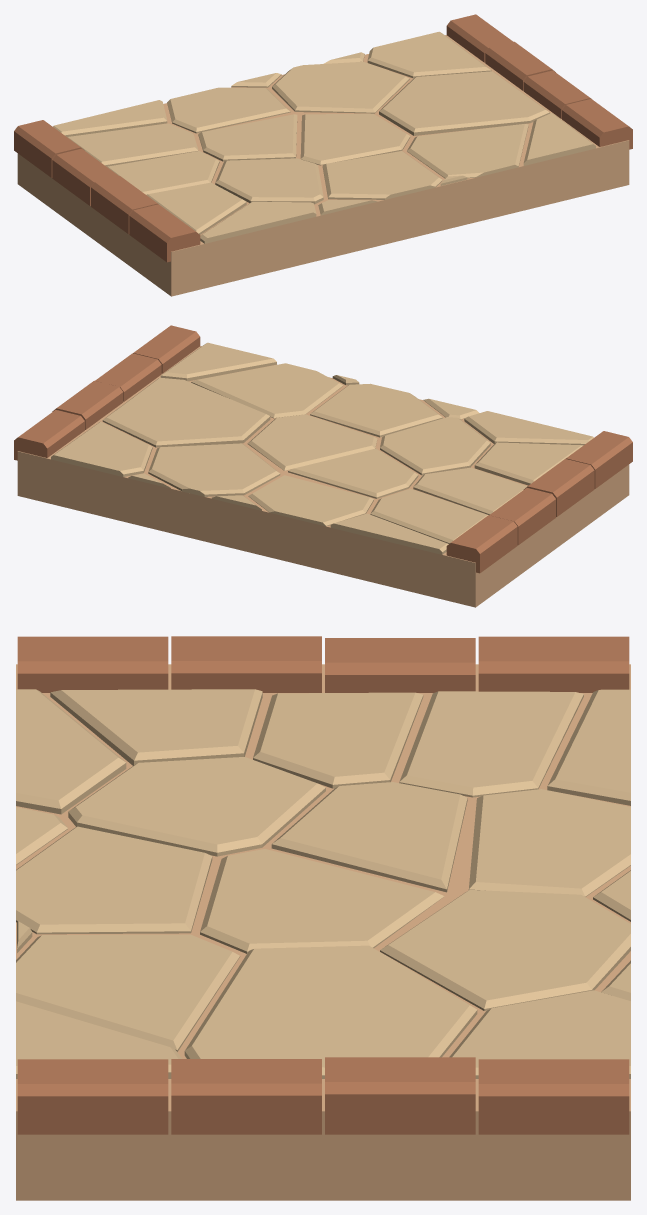
The model's file is terrace_path_straight.fbx.
3 views of the same model, one above another, from view 1: azimuth 30°, elevation 25°; view 2: azimuth 150°, elevation 25°; view 3: azimuth 270°, elevation 25° (orthographic). The views are drawn at different scales.
Visible parts, largest first — view 1: Terrace_Path_Straight; view 2: Terrace_Path_Straight; view 3: Terrace_Path_Straight.
Boxes of the visible parts, box(x1,y1,x2,y2) form: Terrace_Path_Straight: box(14, 14, 632, 296); Terrace_Path_Straight: box(14, 325, 632, 607); Terrace_Path_Straight: box(16, 636, 630, 1200).
Bounding box in the file's own units: 350 × 42.49 × 200.
